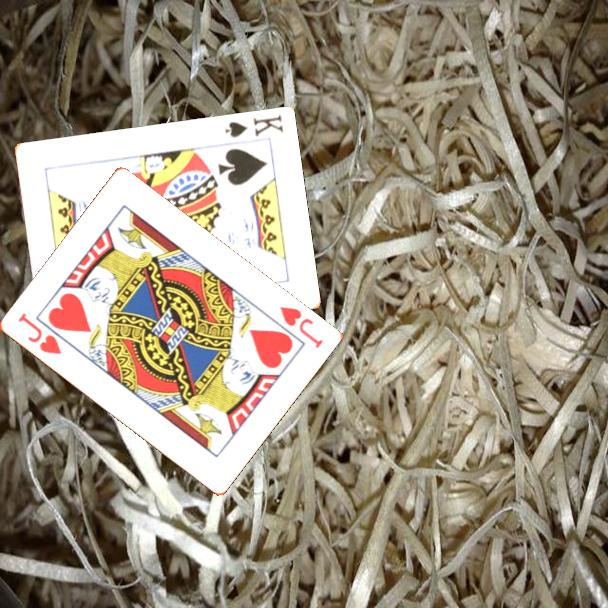h11: (14, 309, 64, 358), (276, 303, 325, 351)
s13: (222, 111, 286, 141)
